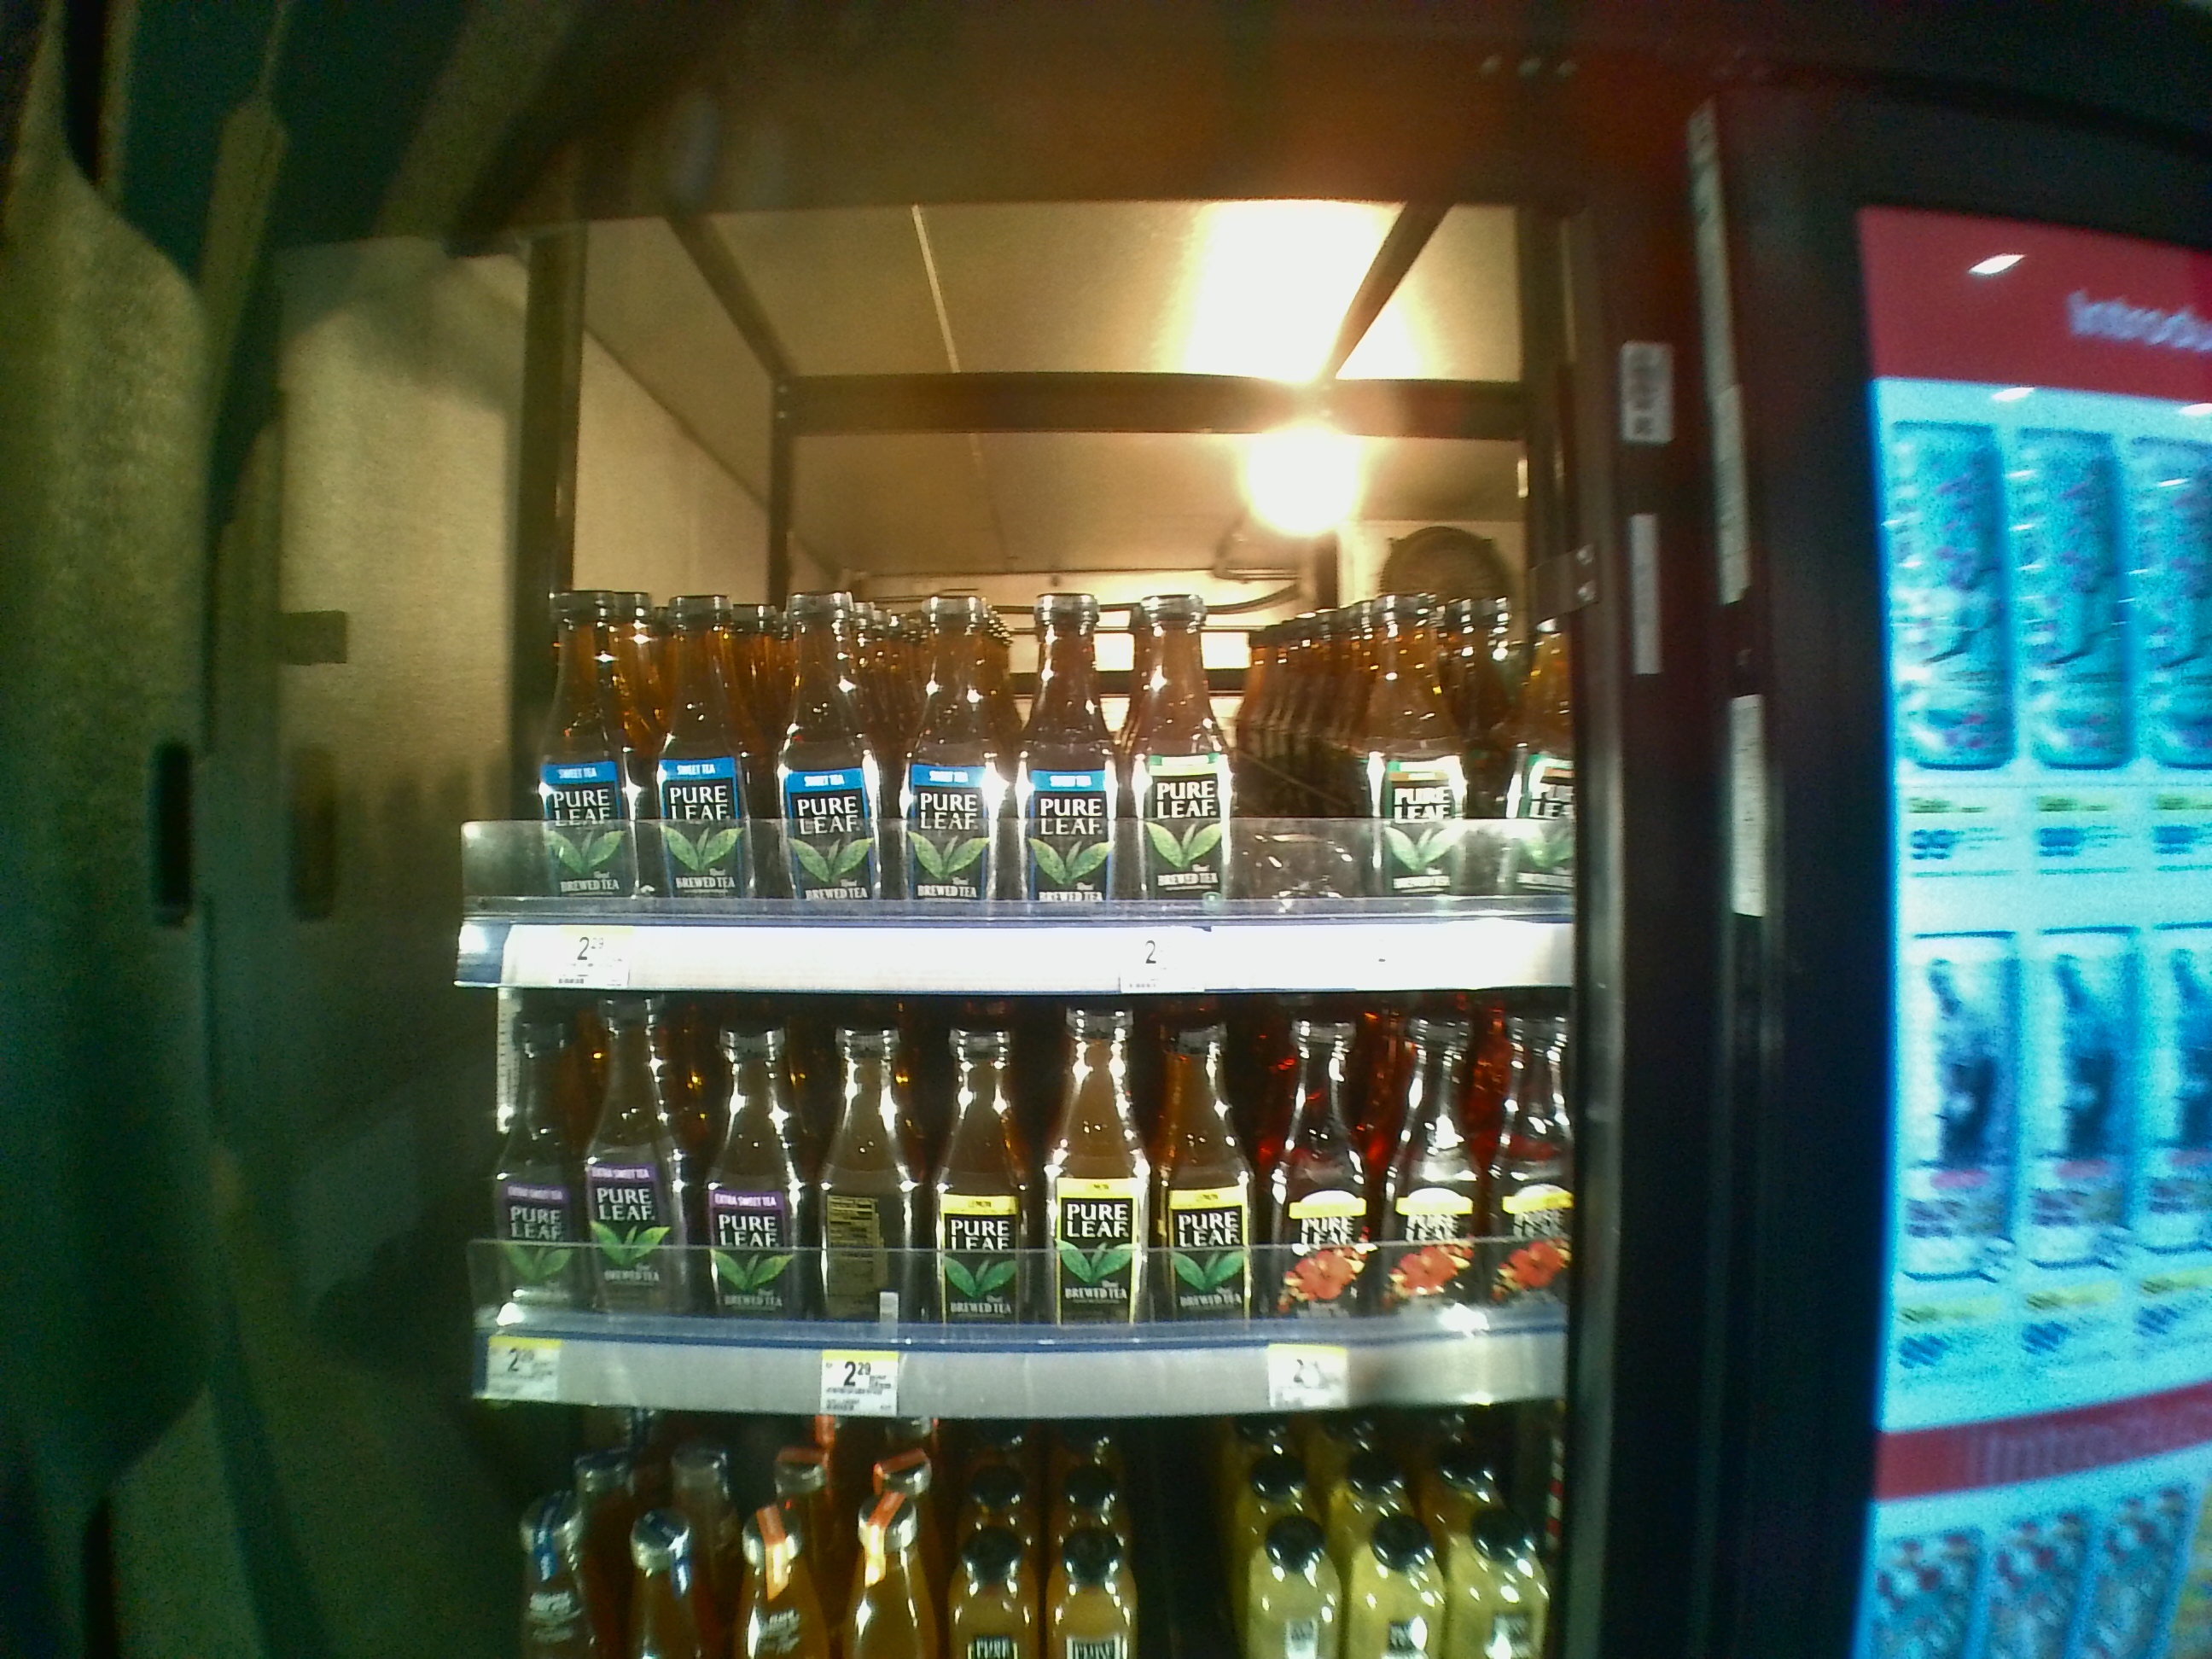shelf: (455, 331, 1576, 988), (465, 1000, 1569, 1406)
